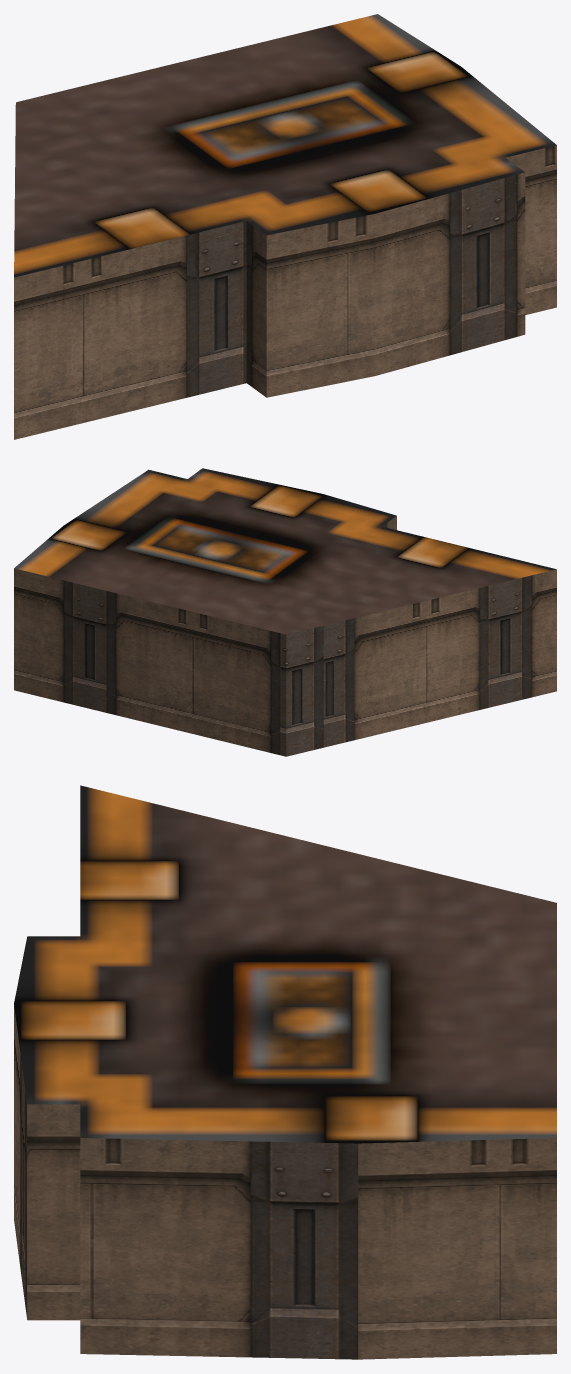
File: heavy_roof33.glb
3 views of the same model, one above another, from view 1: azimuth 30°, elevation 25°; view 2: azimuth 150°, elevation 25°; view 3: azimuth 270°, elevation 25° (orthographic). The views are drawn at different scales.
Parts seen in each view (by area): view 1: buildings/saxarba/heavy/heavy_roof33; view 2: buildings/saxarba/heavy/heavy_roof33; view 3: buildings/saxarba/heavy/heavy_roof33.
Boxes of the visible parts, <box> form: buildings/saxarba/heavy/heavy_roof33: <box>14,14,556,439</box>; buildings/saxarba/heavy/heavy_roof33: <box>14,468,556,756</box>; buildings/saxarba/heavy/heavy_roof33: <box>14,785,556,1359</box>.
Size of the model in its own units: 64 by 18 by 41.
